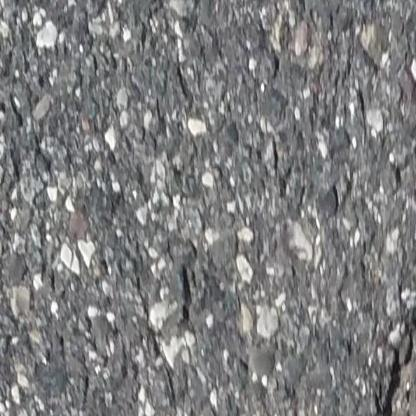Cracks: (372, 267, 416, 416)
